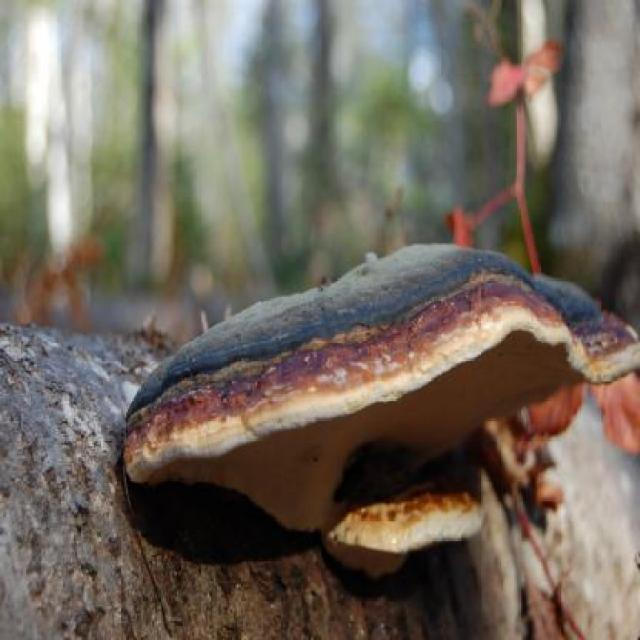Mushroom: (104, 219, 616, 593)
